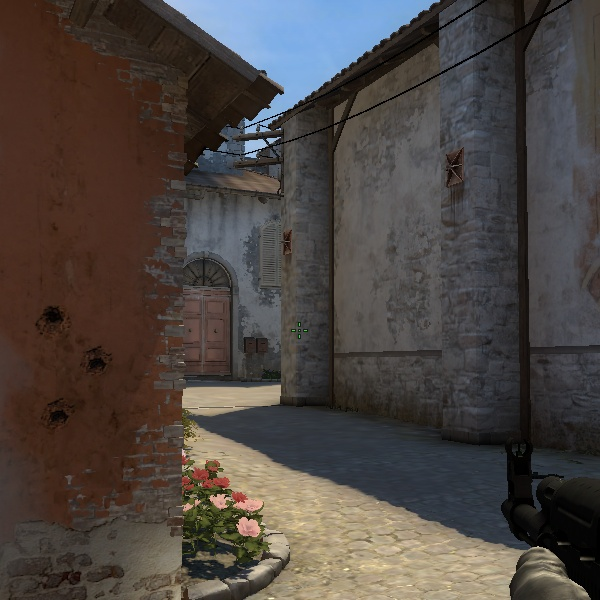ct_body: (163, 444, 276, 591)
